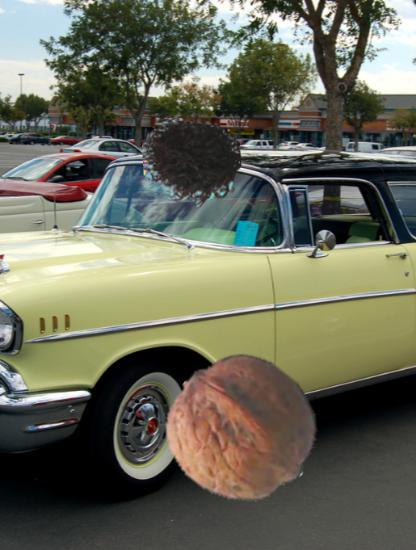Rambutan: (143, 113, 241, 211)
Walnut: (168, 354, 318, 504)
